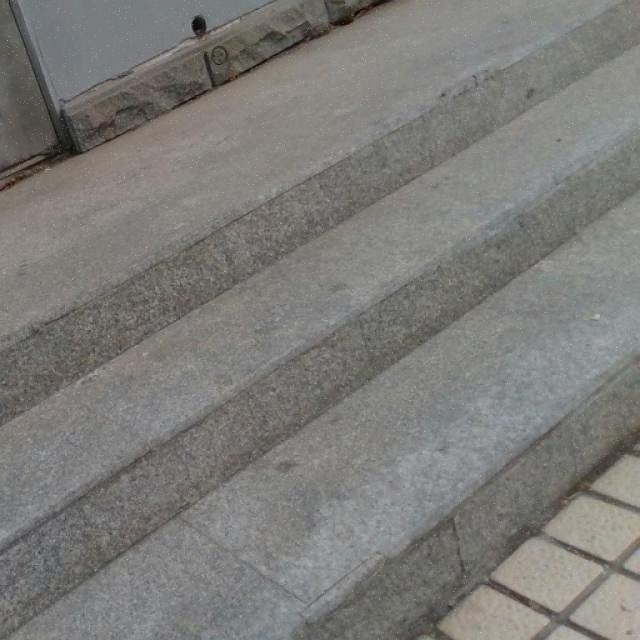stair: (12, 4, 638, 604)
